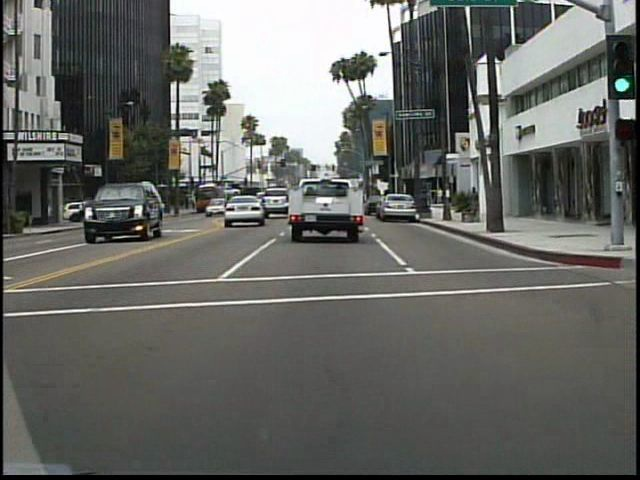person: (465, 183, 482, 218)
